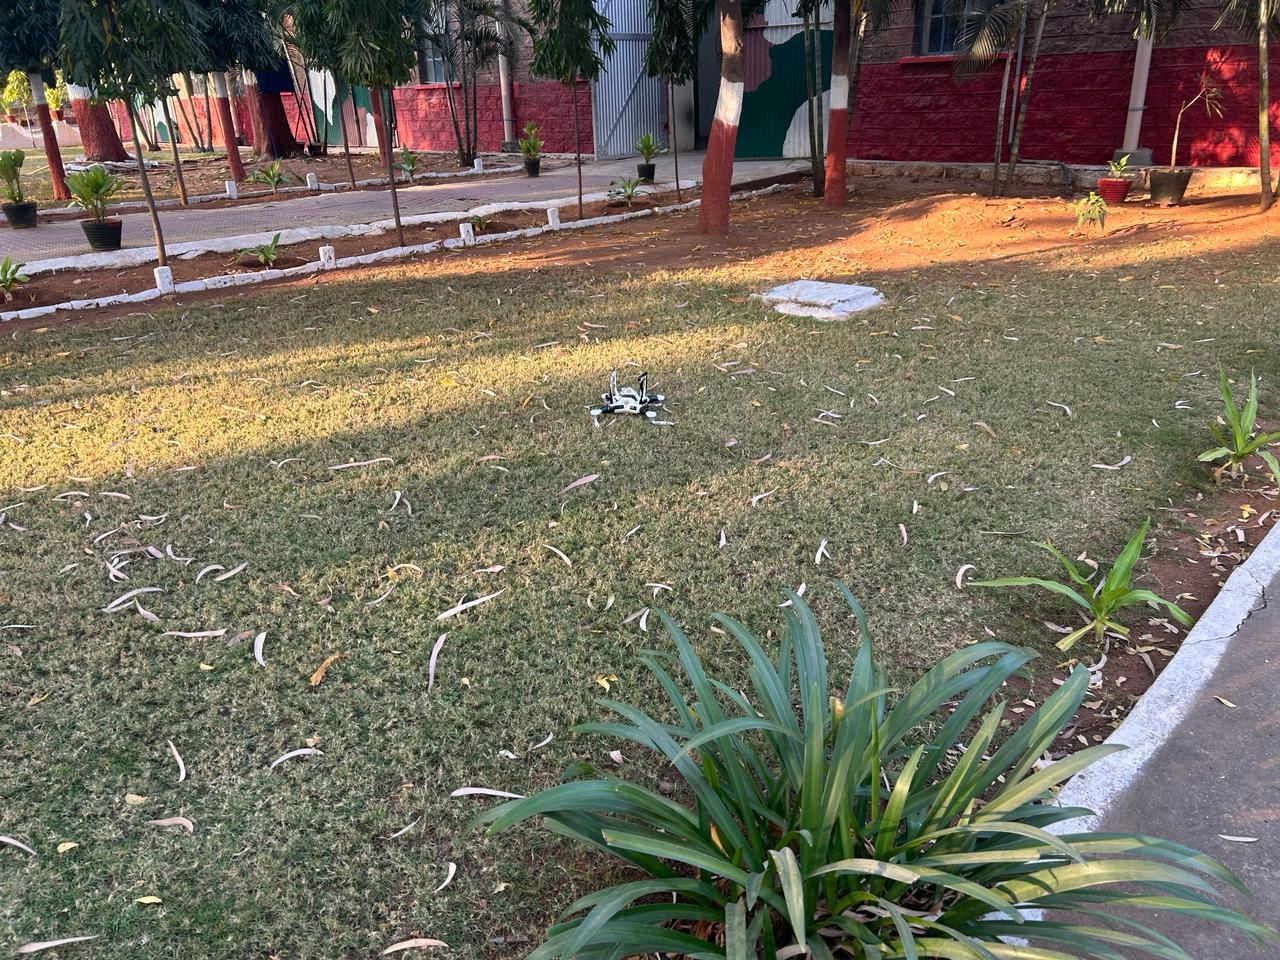drone: (526, 337, 726, 446)
